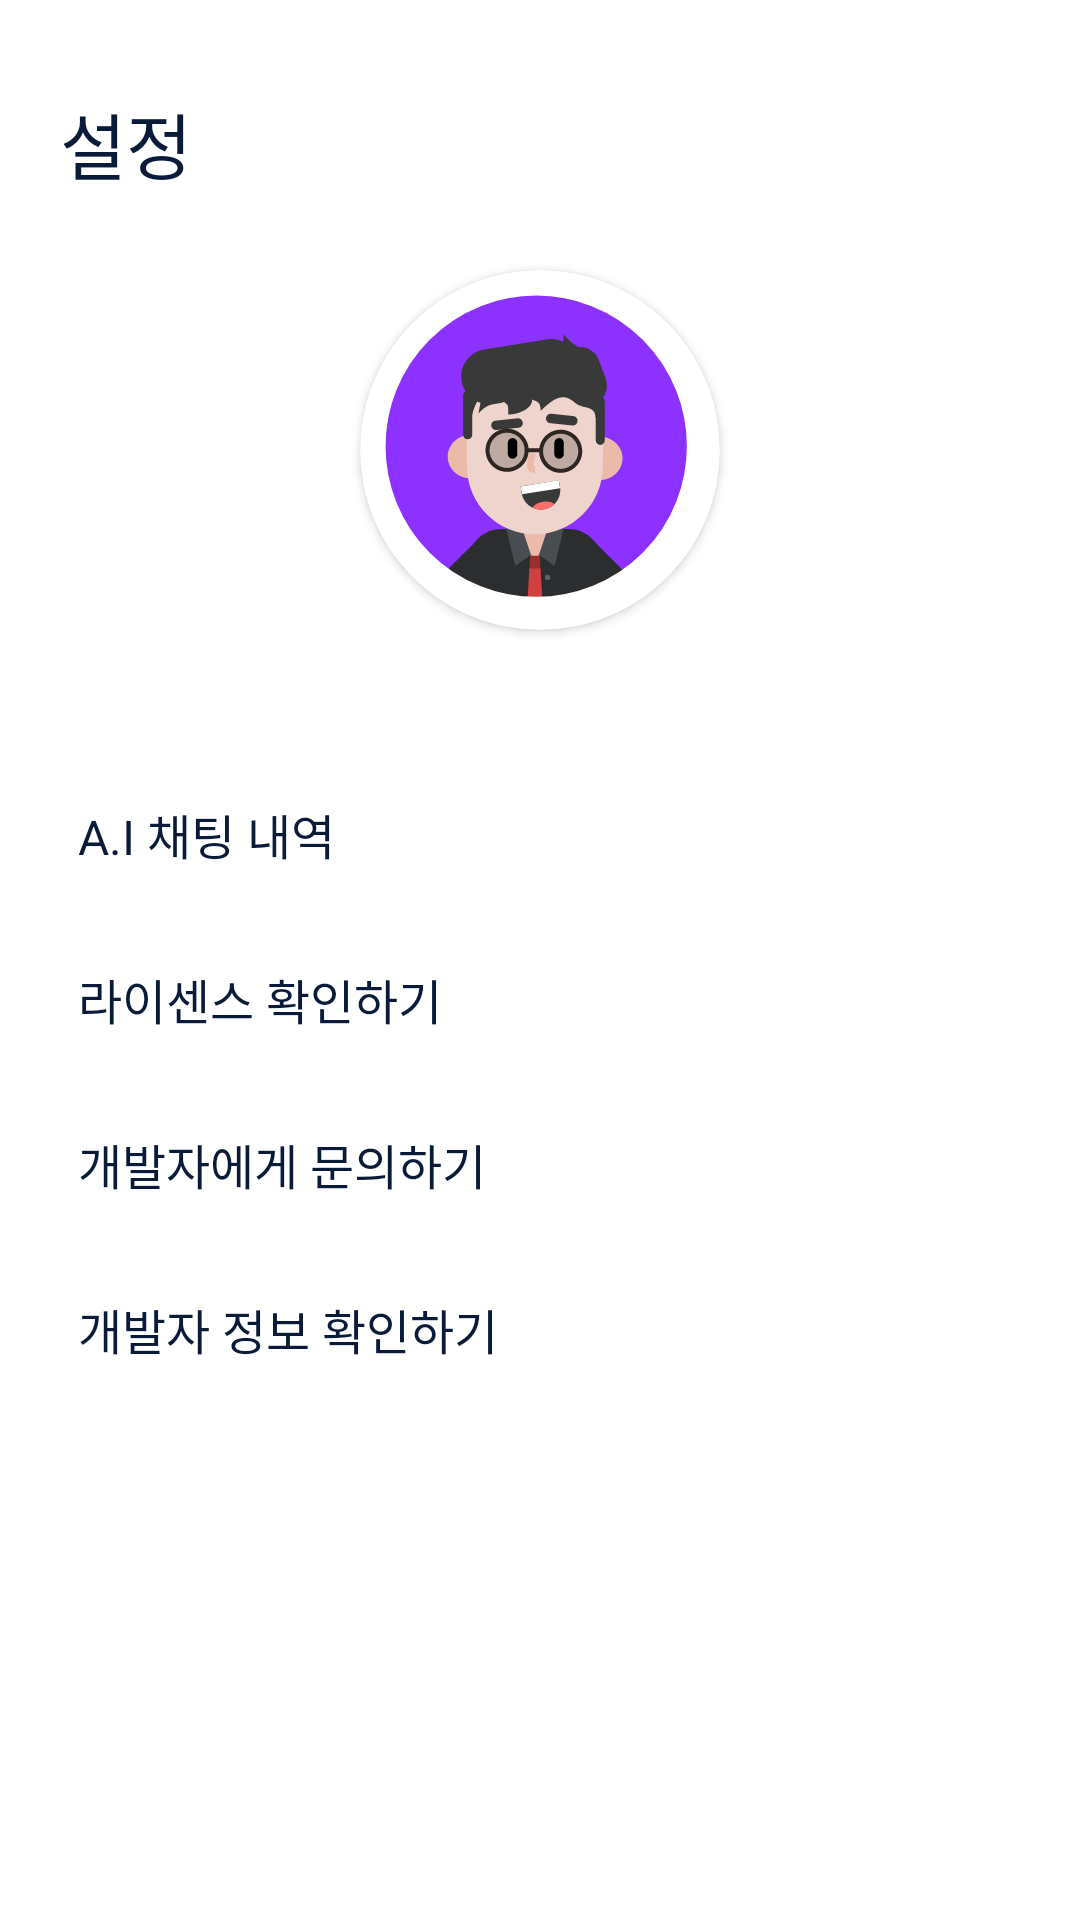

Locate icon controls on the screen. Image size 1080px×1920px, boxes as rect(x1, y1, x2, y2).
profile: rect(360, 295, 720, 630)
